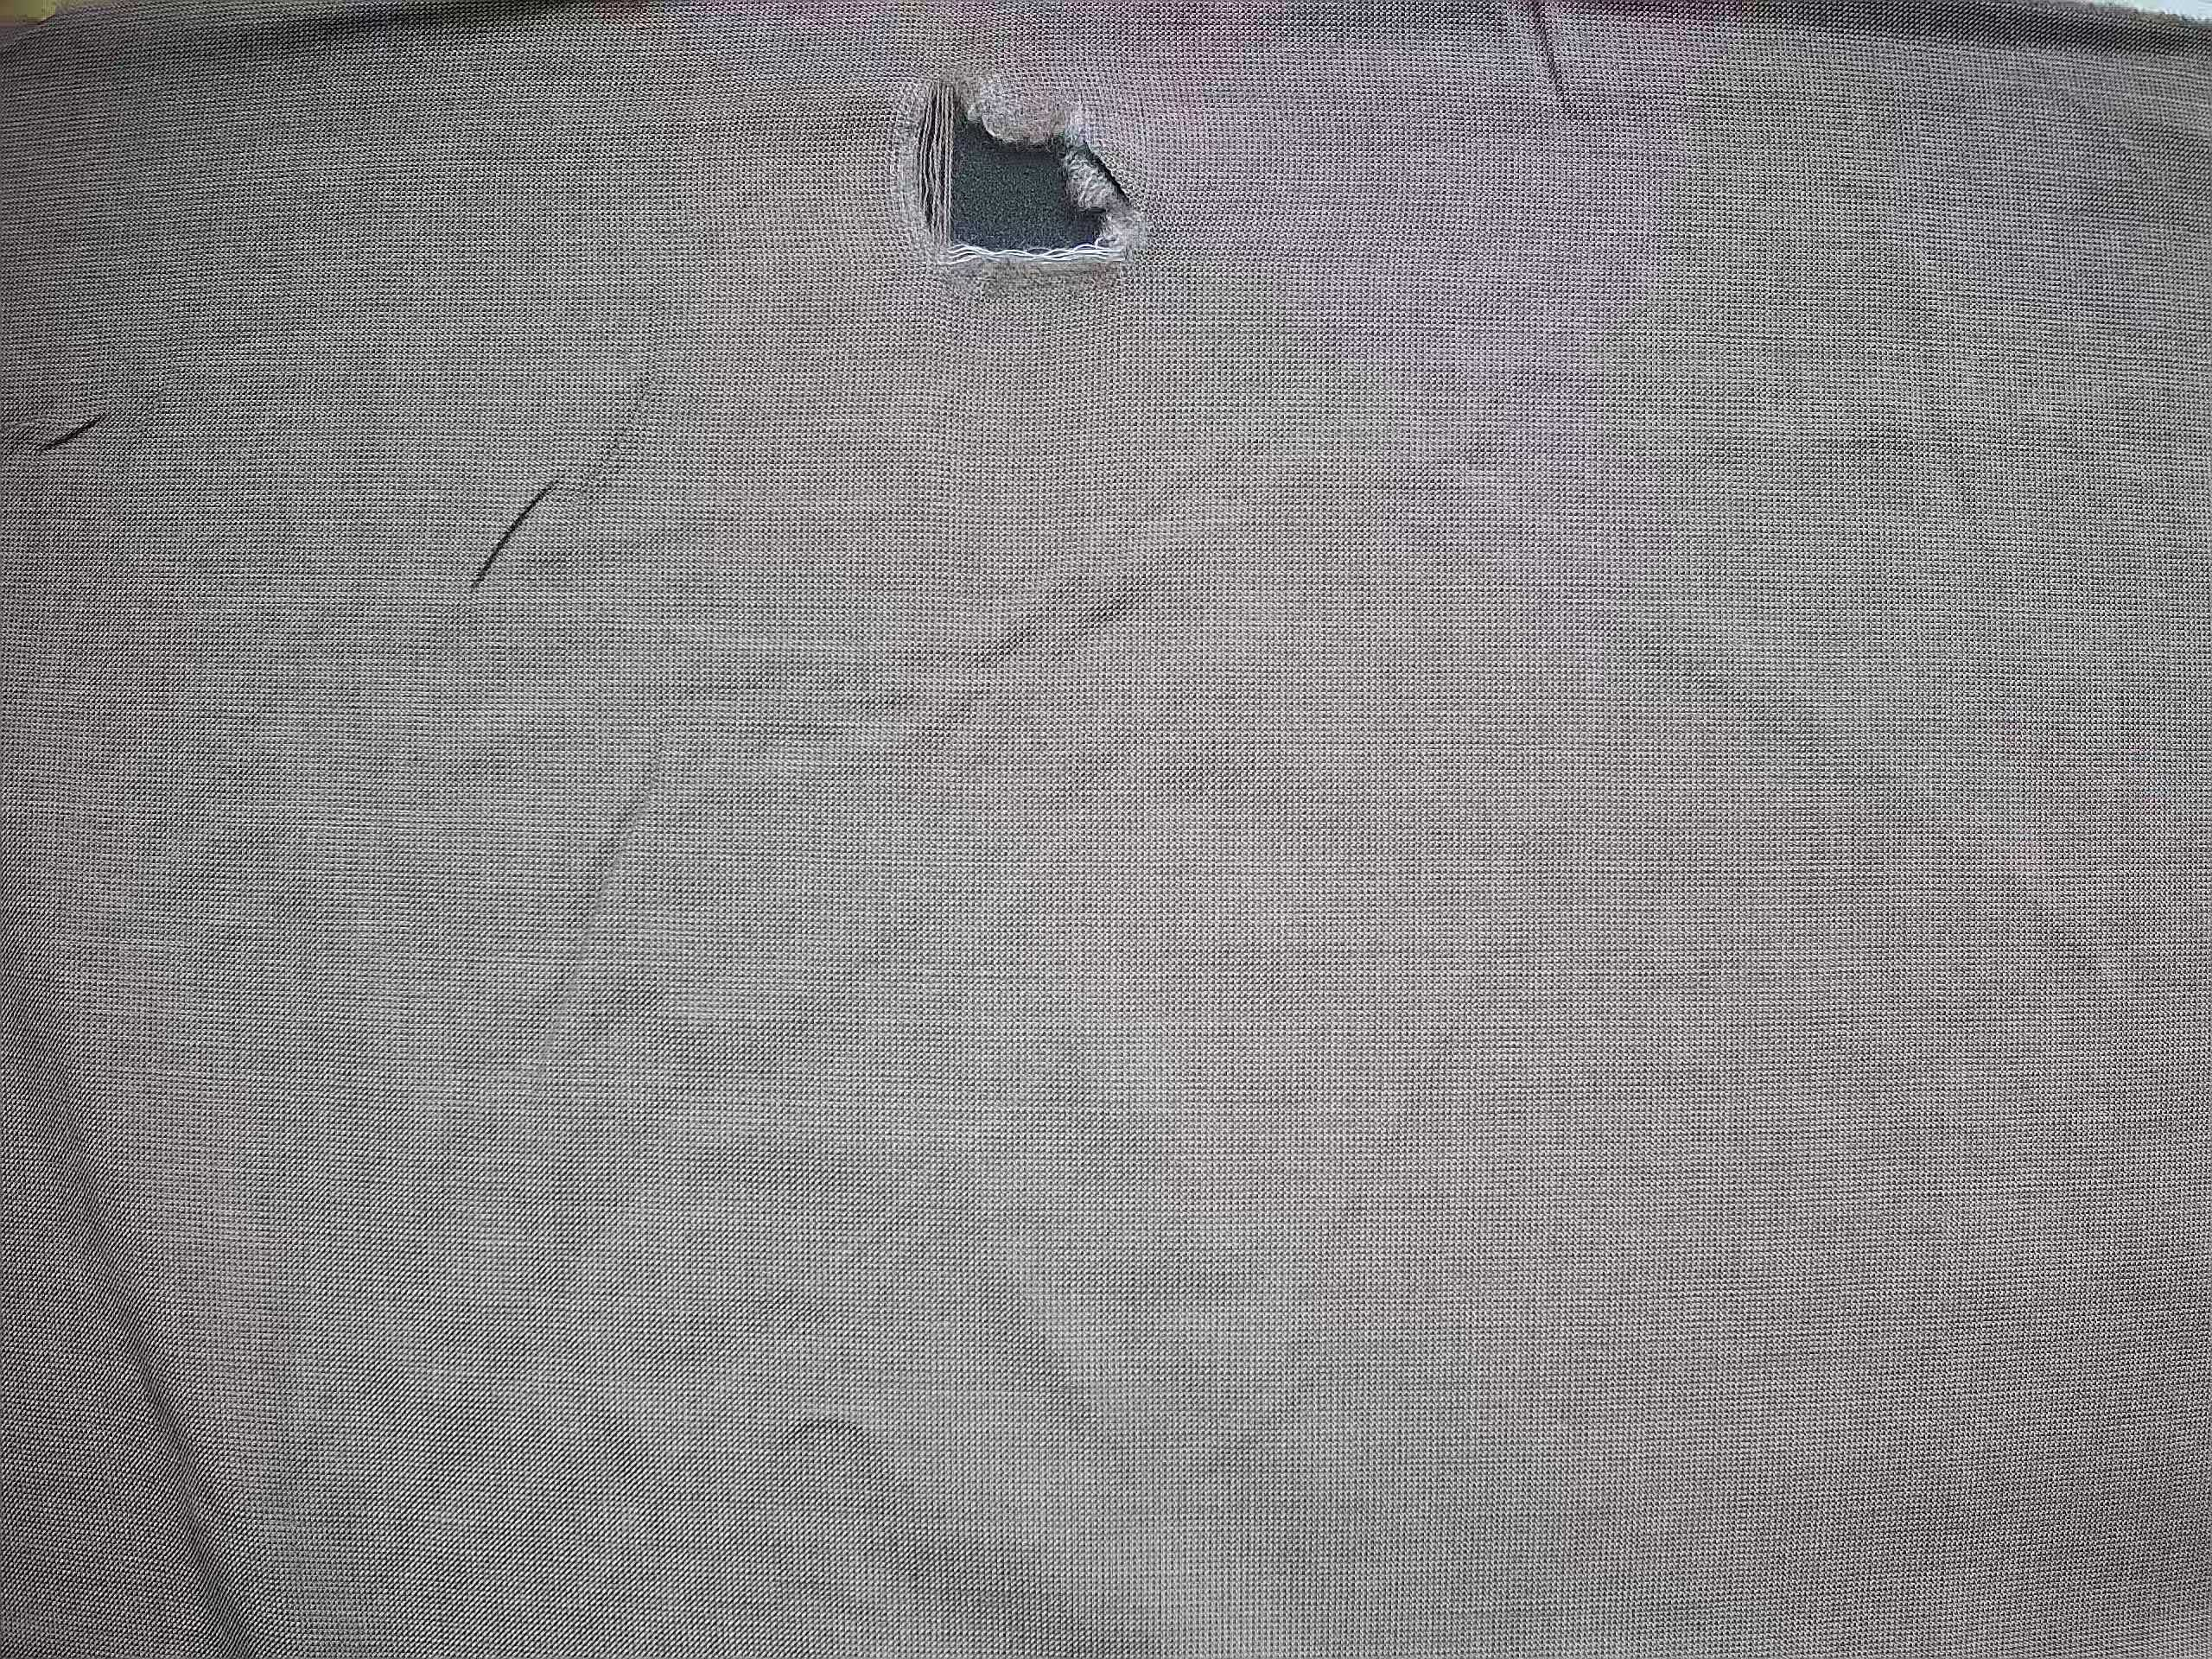rubbing-hole: (871, 33, 1186, 310)
